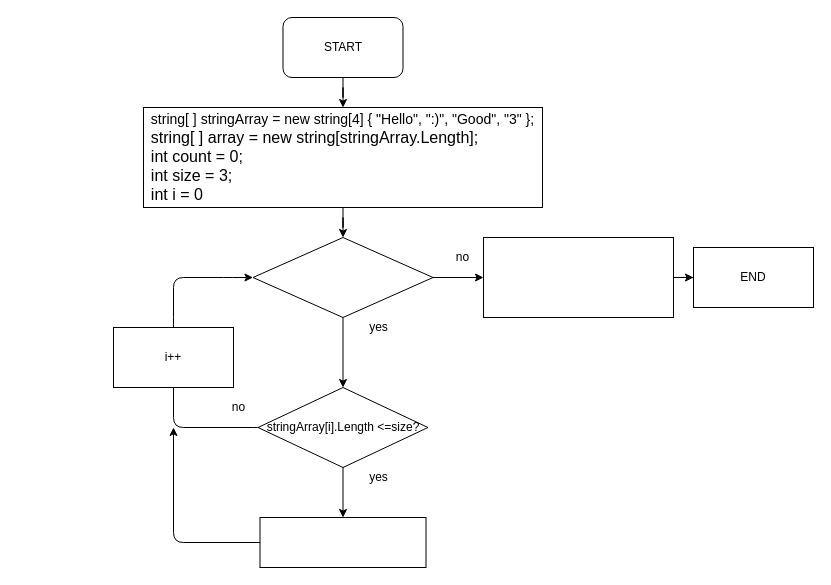
This 831x585 diagram has some shape labels left out. Each missing label, with the centre of its shape:
array[count]=stringArray[i]; count++;: pixel 342 542
i<stringArray.Length?: pixel 342 277
Print [String.Join(" ", stringArray] -> "); [String.Join(" ", array];: pixel 578 277
